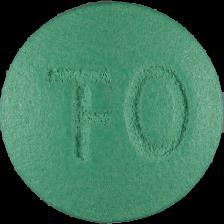69189-0918: (0, 0, 224, 224)
